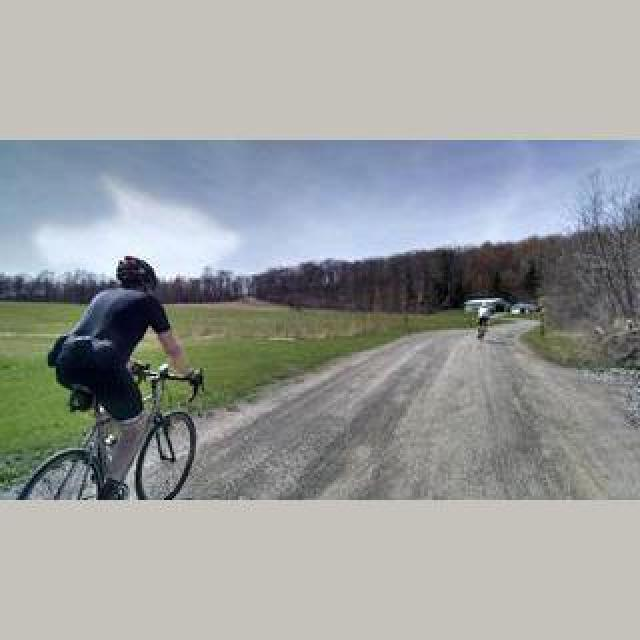MC-Bike: (50, 256, 200, 488)
Person: (14, 362, 202, 500)
